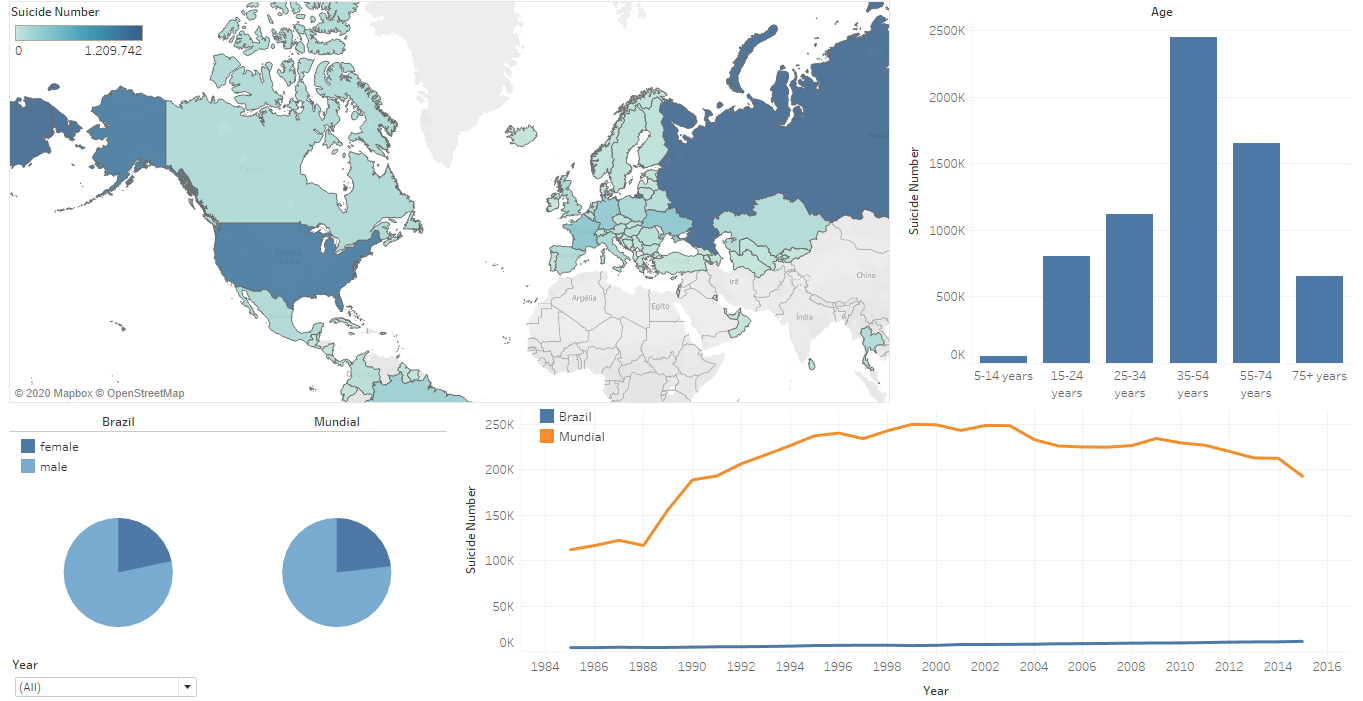

What the dashboard file says about the page in this screenshot:
{"tool":"tableau","page":{"name":"Dashboard 1","canvas":[1000,1000],"units":"permille","ordinal":0},"visuals":[{"type":"worksheet","title":"Sheet 2","mark":"Automatic","box":[6.9,12.7,649.3,553.6]},{"type":"worksheet","title":"Sheet 9","mark":"Automatic","rows":["suicides_no"],"cols":["age"],"box":[656.2,12.7,336.9,553.6]},{"type":"legend","title":"Sheet 2","param":"[federated.02nyv1y1mjwjar1660tx2177plor].[sum:suicides_no:qk]","box":[10.3,19,99.9,77.5]},{"type":"legend","title":"Sheet 7","param":"[federated.02nyv1y1mjwjar1660tx2177plor].[Country (group) 2]","box":[395.4,564.9,72.4,76]},{"type":"worksheet","title":"Sheet 8","mark":"Pie","box":[6.9,566.3,326.2,421]},{"type":"worksheet","title":"Sheet 7","mark":"Automatic","rows":["suicides_no"],"cols":["year"],"box":[333.1,566.3,660.1,421]},{"type":"legend","title":"Sheet 8","param":"[federated.02nyv1y1mjwjar1660tx2177plor].[none:sex:nk]","box":[15.5,606,60.3,91.8]},{"type":"filter","title":"Sheet 2","param":"[federated.02nyv1y1mjwjar1660tx2177plor].[none:year:ok]","box":[11.2,903.5,137.8,69.6]}]}

Visuals, with their boxes on the dashboard's canvas, which has no fixed pixel size, in thousandths of its width and height (x1, y1, x2, y2). These are canvas units, not pixel positions in the 1363x701 screenshot, which may show the page scaled, cropped or inside an application window:
"Sheet 2" worksheet: <bbox>7, 13, 656, 566</bbox>
"Sheet 9" worksheet: <bbox>656, 13, 993, 566</bbox>
"Sheet 2" legend: <bbox>10, 19, 110, 96</bbox>
"Sheet 7" legend: <bbox>395, 565, 468, 641</bbox>
"Sheet 8" worksheet (Pie marks): <bbox>7, 566, 333, 987</bbox>
"Sheet 7" worksheet: <bbox>333, 566, 993, 987</bbox>
"Sheet 8" legend: <bbox>16, 606, 76, 698</bbox>
"Sheet 2" filter: <bbox>11, 904, 149, 973</bbox>
